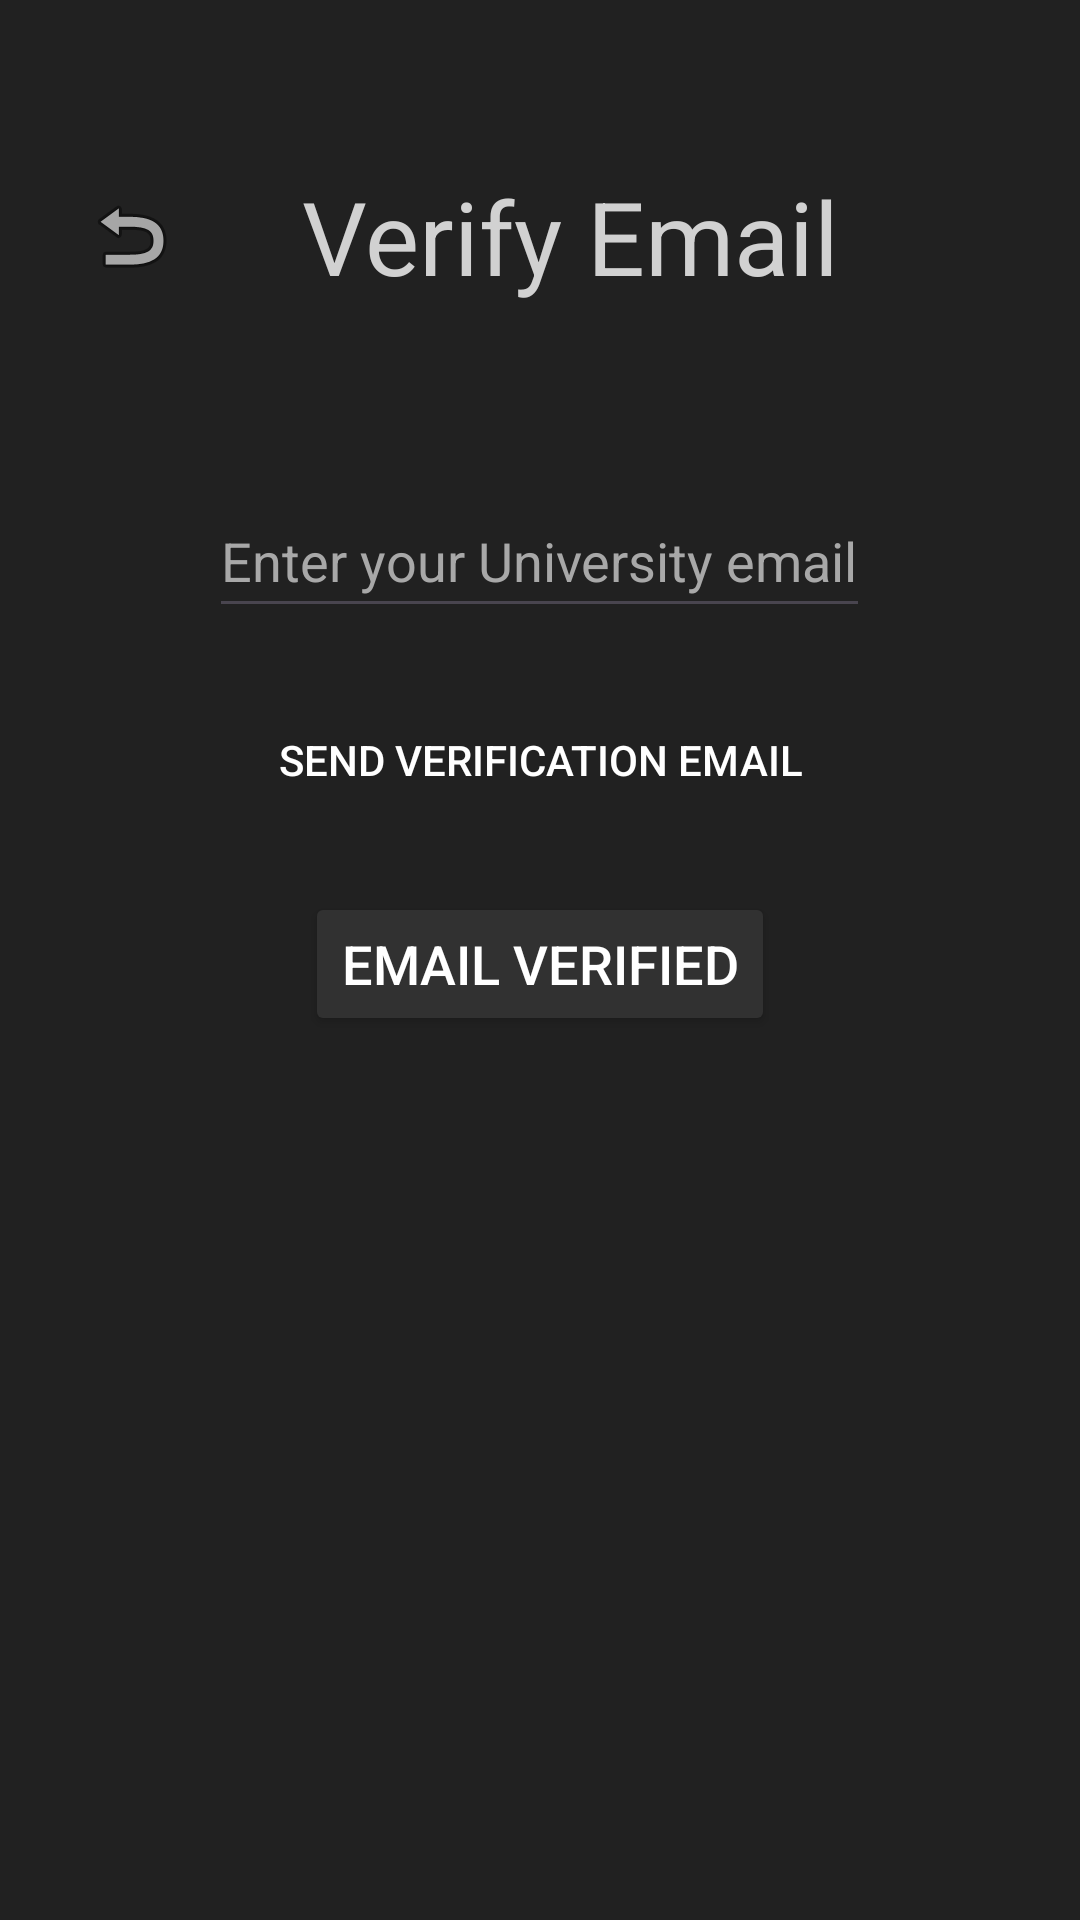

Point at icon controls on the screen. Image size 1080 × 1920, points as (x=x, y=y).
revert: (x=132, y=236)
